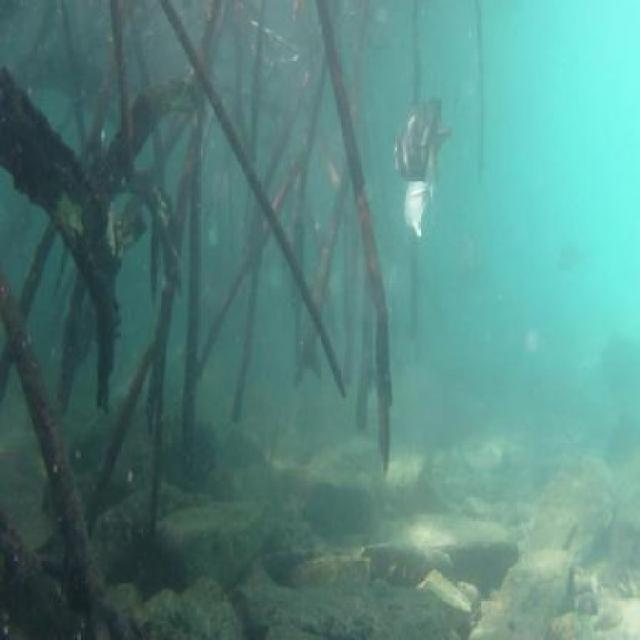Caranx_sexfasciatus_juvenile: (388, 94, 454, 194), (402, 170, 436, 242)
